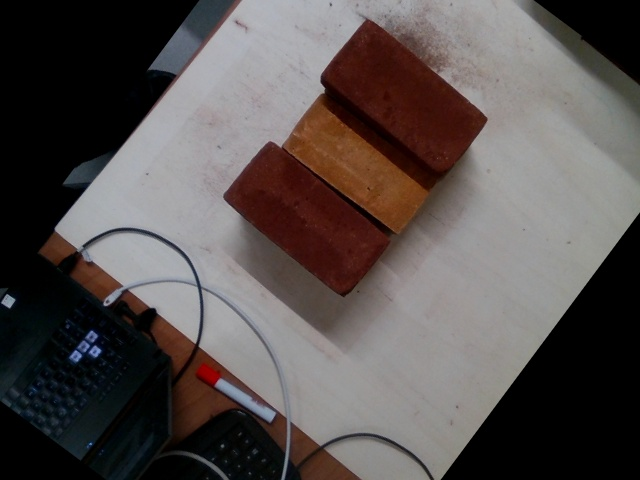brick: (223, 142, 390, 297), (322, 17, 489, 171), (283, 92, 438, 233)
